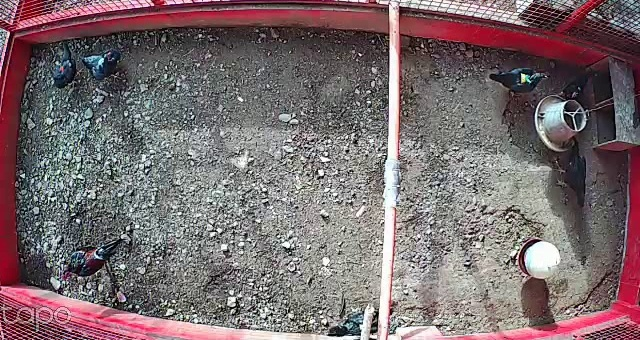Chicken: (547, 133, 594, 216), (485, 64, 555, 98), (81, 45, 130, 88), (48, 37, 87, 91), (556, 66, 596, 100)
Rooster: (61, 239, 121, 282)
Saddle_Color_Red: (59, 66, 66, 72)
Saddle_Color_YellowGreen: (518, 71, 532, 85)
